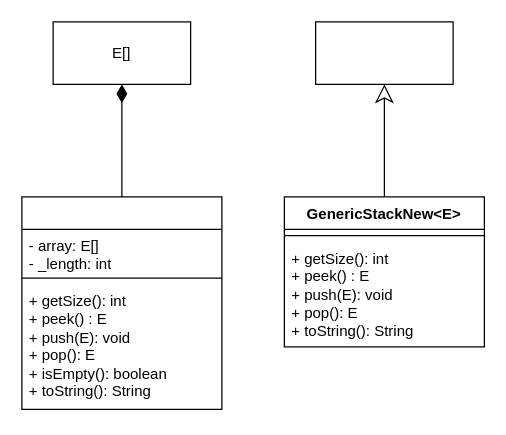
Image size: 506x435. Some labels were removed from this diagram. Here are the shapes that lost their labels. From the top down, the box of each, then its label:
(314, 21, 453, 84): ArrayList<E>
(21, 196, 222, 409): GenericStack<E>
